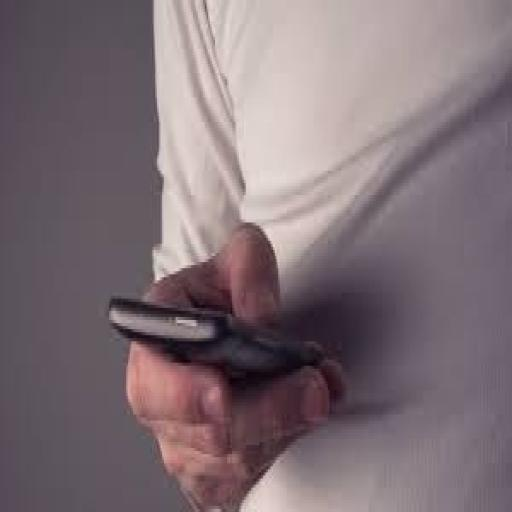texting: (120, 0, 510, 509)
